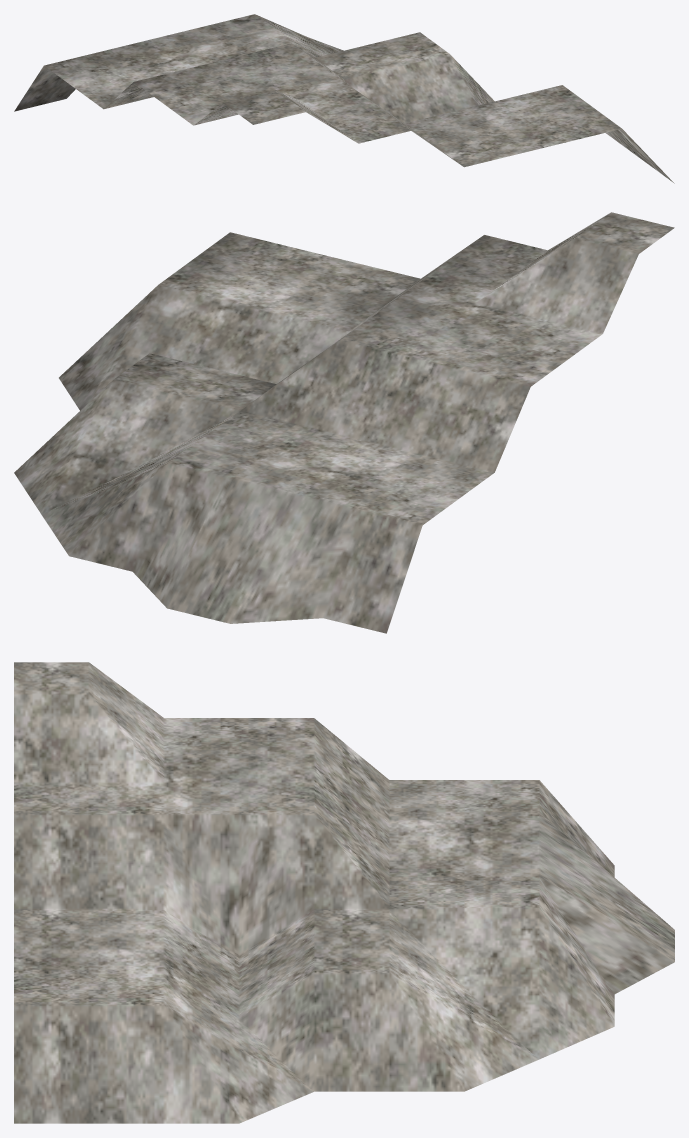
The model's file is DEBREE_CNR_PLAIN.obj.
The picture shows the model from 3 angles, top to bottom: view 1: azimuth 30°, elevation 25°; view 2: azimuth 150°, elevation 25°; view 3: azimuth 270°, elevation 25°; orthographic projection. The views are drawn at different scales.
Visible parts, largest first — view 1: ebree_cnr_plain; view 2: ebree_cnr_plain; view 3: ebree_cnr_plain.
Part boxes in pixels (x1,y1,x2,y2): ebree_cnr_plain: (14,14,674,183); ebree_cnr_plain: (14,212,674,633); ebree_cnr_plain: (14,662,674,1123).
Bounding box in the file's own units: 506 × 186 × 547.
